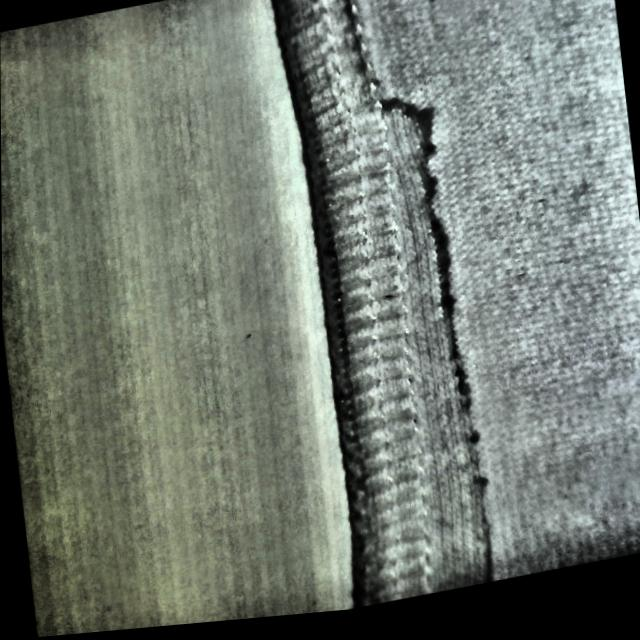seam: (296, 89, 524, 618)
